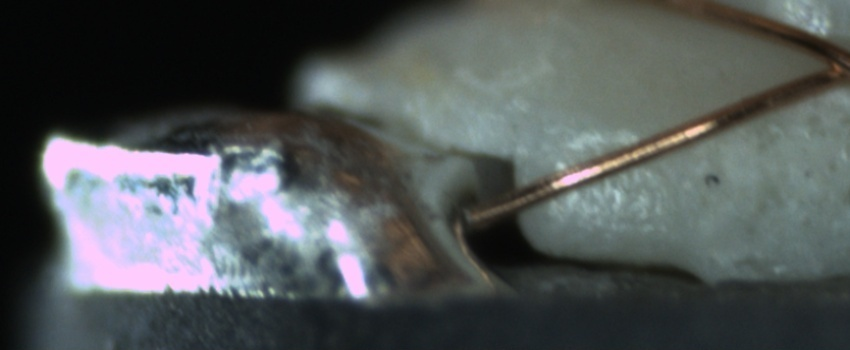CL: (800, 32, 850, 94)
DL: (538, 114, 675, 167)
